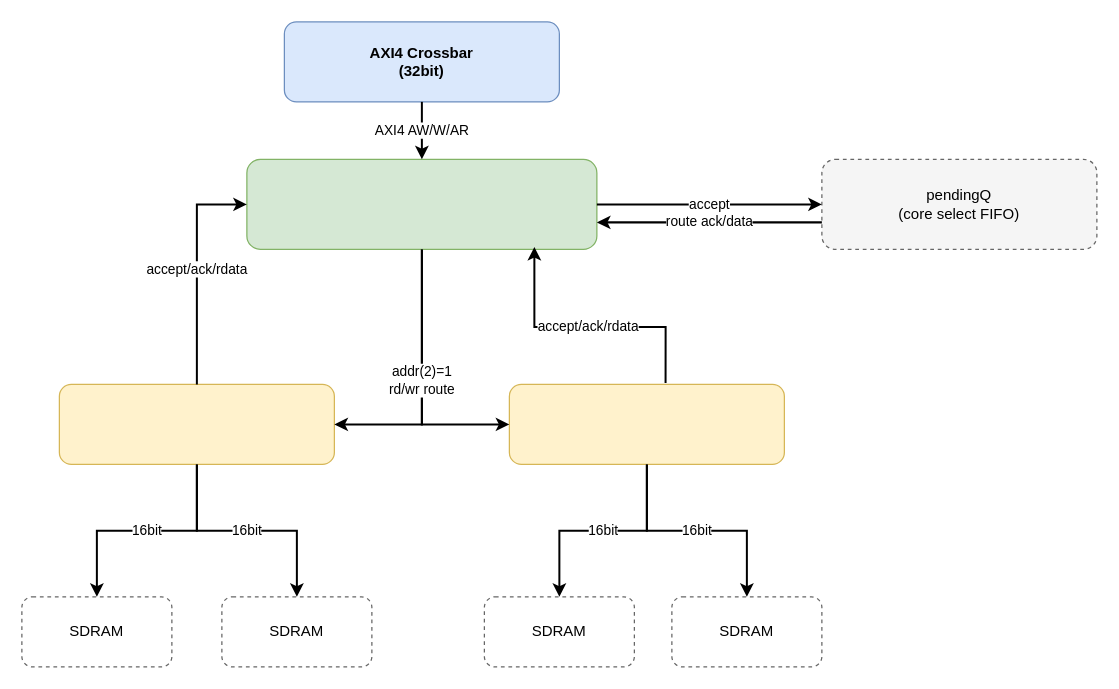
Some shapes in this 1119 by 689 pixel diagram are drawn without their labels. Here are the shapes that lost their labels. From the top down, the centre of each, then its label:
pixel 421 203: AXI4->SDRAM 事务桥 (SdramAxiPmem + Queues)
pixel 196 423: SDRAM Core 0 (偶字)
pixel 646 423: SDRAM Core 1 (奇字)
